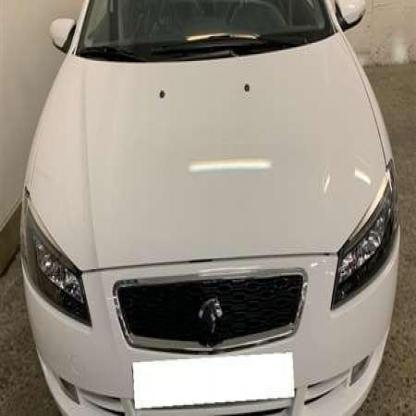Car: (17, 0, 394, 416)
